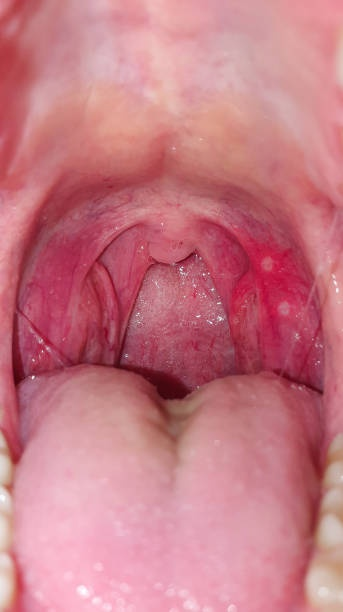Ulcer: (256, 246, 306, 335)
